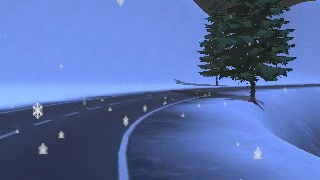Lane: (0, 84, 318, 179)
